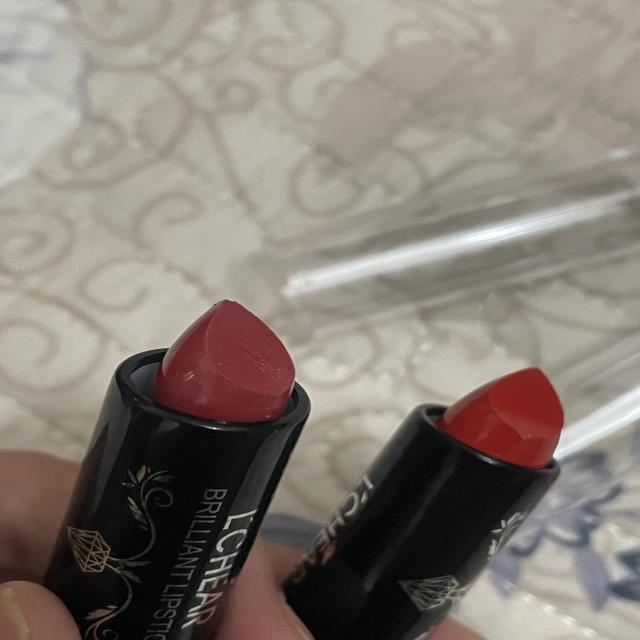lip stick: (29, 294, 328, 640), (299, 351, 585, 640)
